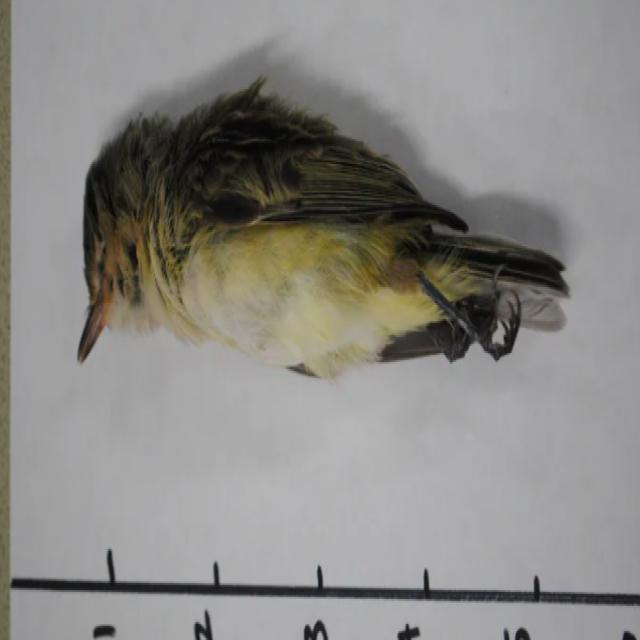Bangkai Burung: (69, 50, 593, 438)
